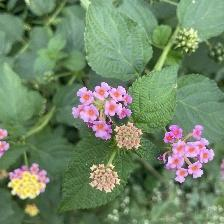common lanthana: (75, 80, 137, 141), (159, 124, 217, 187), (7, 158, 52, 205), (88, 162, 121, 195), (113, 121, 145, 153), (1, 128, 11, 157)
